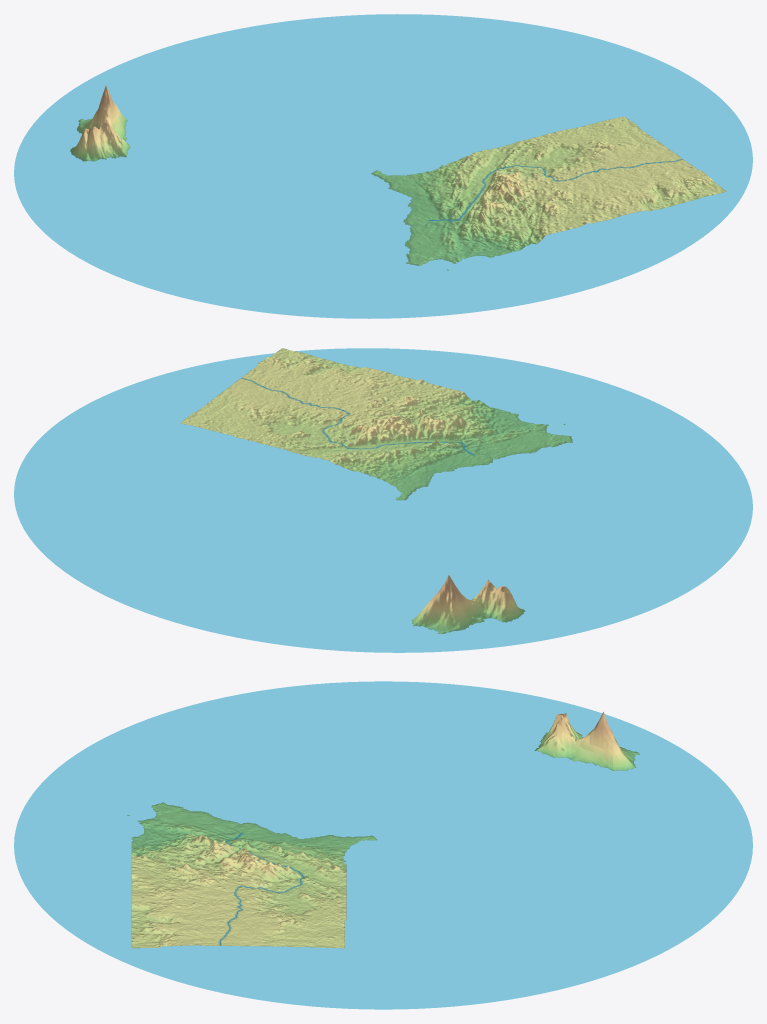
File: GNQ-terrain.glb
3 renders of one model, top to bottom at view 1: azimuth 30°, elevation 25°; view 2: azimuth 150°, elevation 25°; view 3: azimuth 270°, elevation 25°, orthographic. The views are drawn at different scales.
Visible parts, largest first — view 1: Relevo com hidrografia; view 2: Relevo com hidrografia; view 3: Relevo com hidrografia.
Part boxes in pixels (left/top/right/bottom): Relevo com hidrografia: left=14, top=14, right=752, bottom=318; Relevo com hidrografia: left=14, top=348, right=752, bottom=652; Relevo com hidrografia: left=14, top=681, right=752, bottom=1009.
Size of the model in its own units: 2.33 by 0.156 by 2.22.
Materials: 2 (1 with a texture image).
